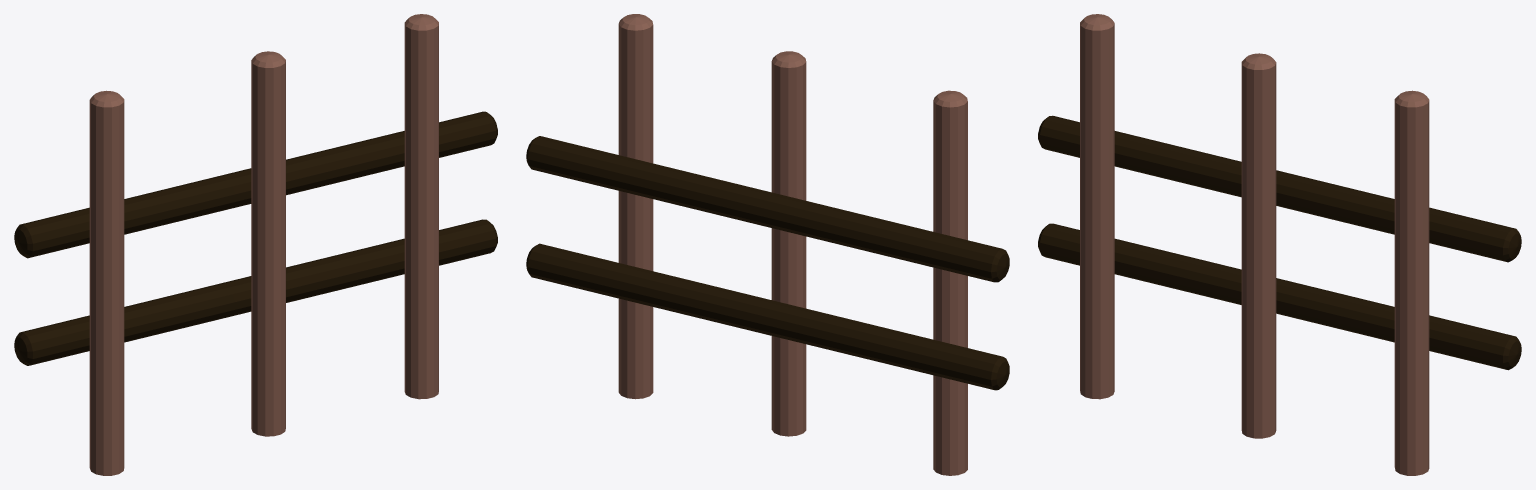
Rendered from cerca1.fbx.
3 views of the same model, side by side, from view 1: azimuth 30°, elevation 25°; view 2: azimuth 150°, elevation 25°; view 3: azimuth 330°, elevation 25° (orthographic).
Visible parts, largest first — view 1: Cylinder.002, Cylinder.005; view 2: Cylinder.005, Cylinder.002; view 3: Cylinder.002, Cylinder.005.
Part boxes in pixels (x1,y1,x2,y2): Cylinder.002: (89,14,438,475); Cylinder.005: (14,111,497,365); Cylinder.005: (526,136,1009,390); Cylinder.002: (618,14,967,475); Cylinder.002: (1080,14,1429,475); Cylinder.005: (1038,115,1521,370).
Size of the model in its own units: 3142 by 2368 by 390.
2 materials, 2 textured.
